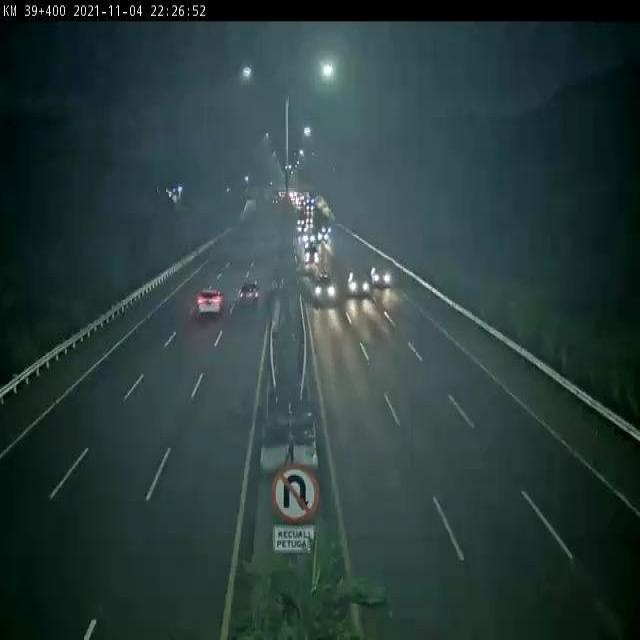car: (312, 272, 337, 307), (345, 263, 370, 296), (196, 287, 224, 316), (237, 280, 263, 309), (371, 259, 392, 289)
